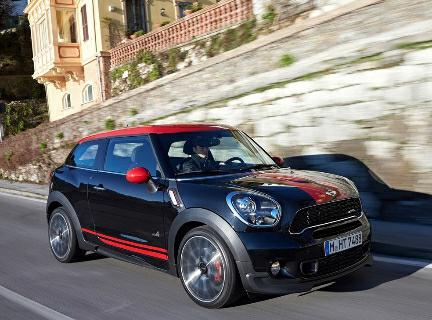MINI-JCWPACEMAN: (33, 108, 385, 302)
